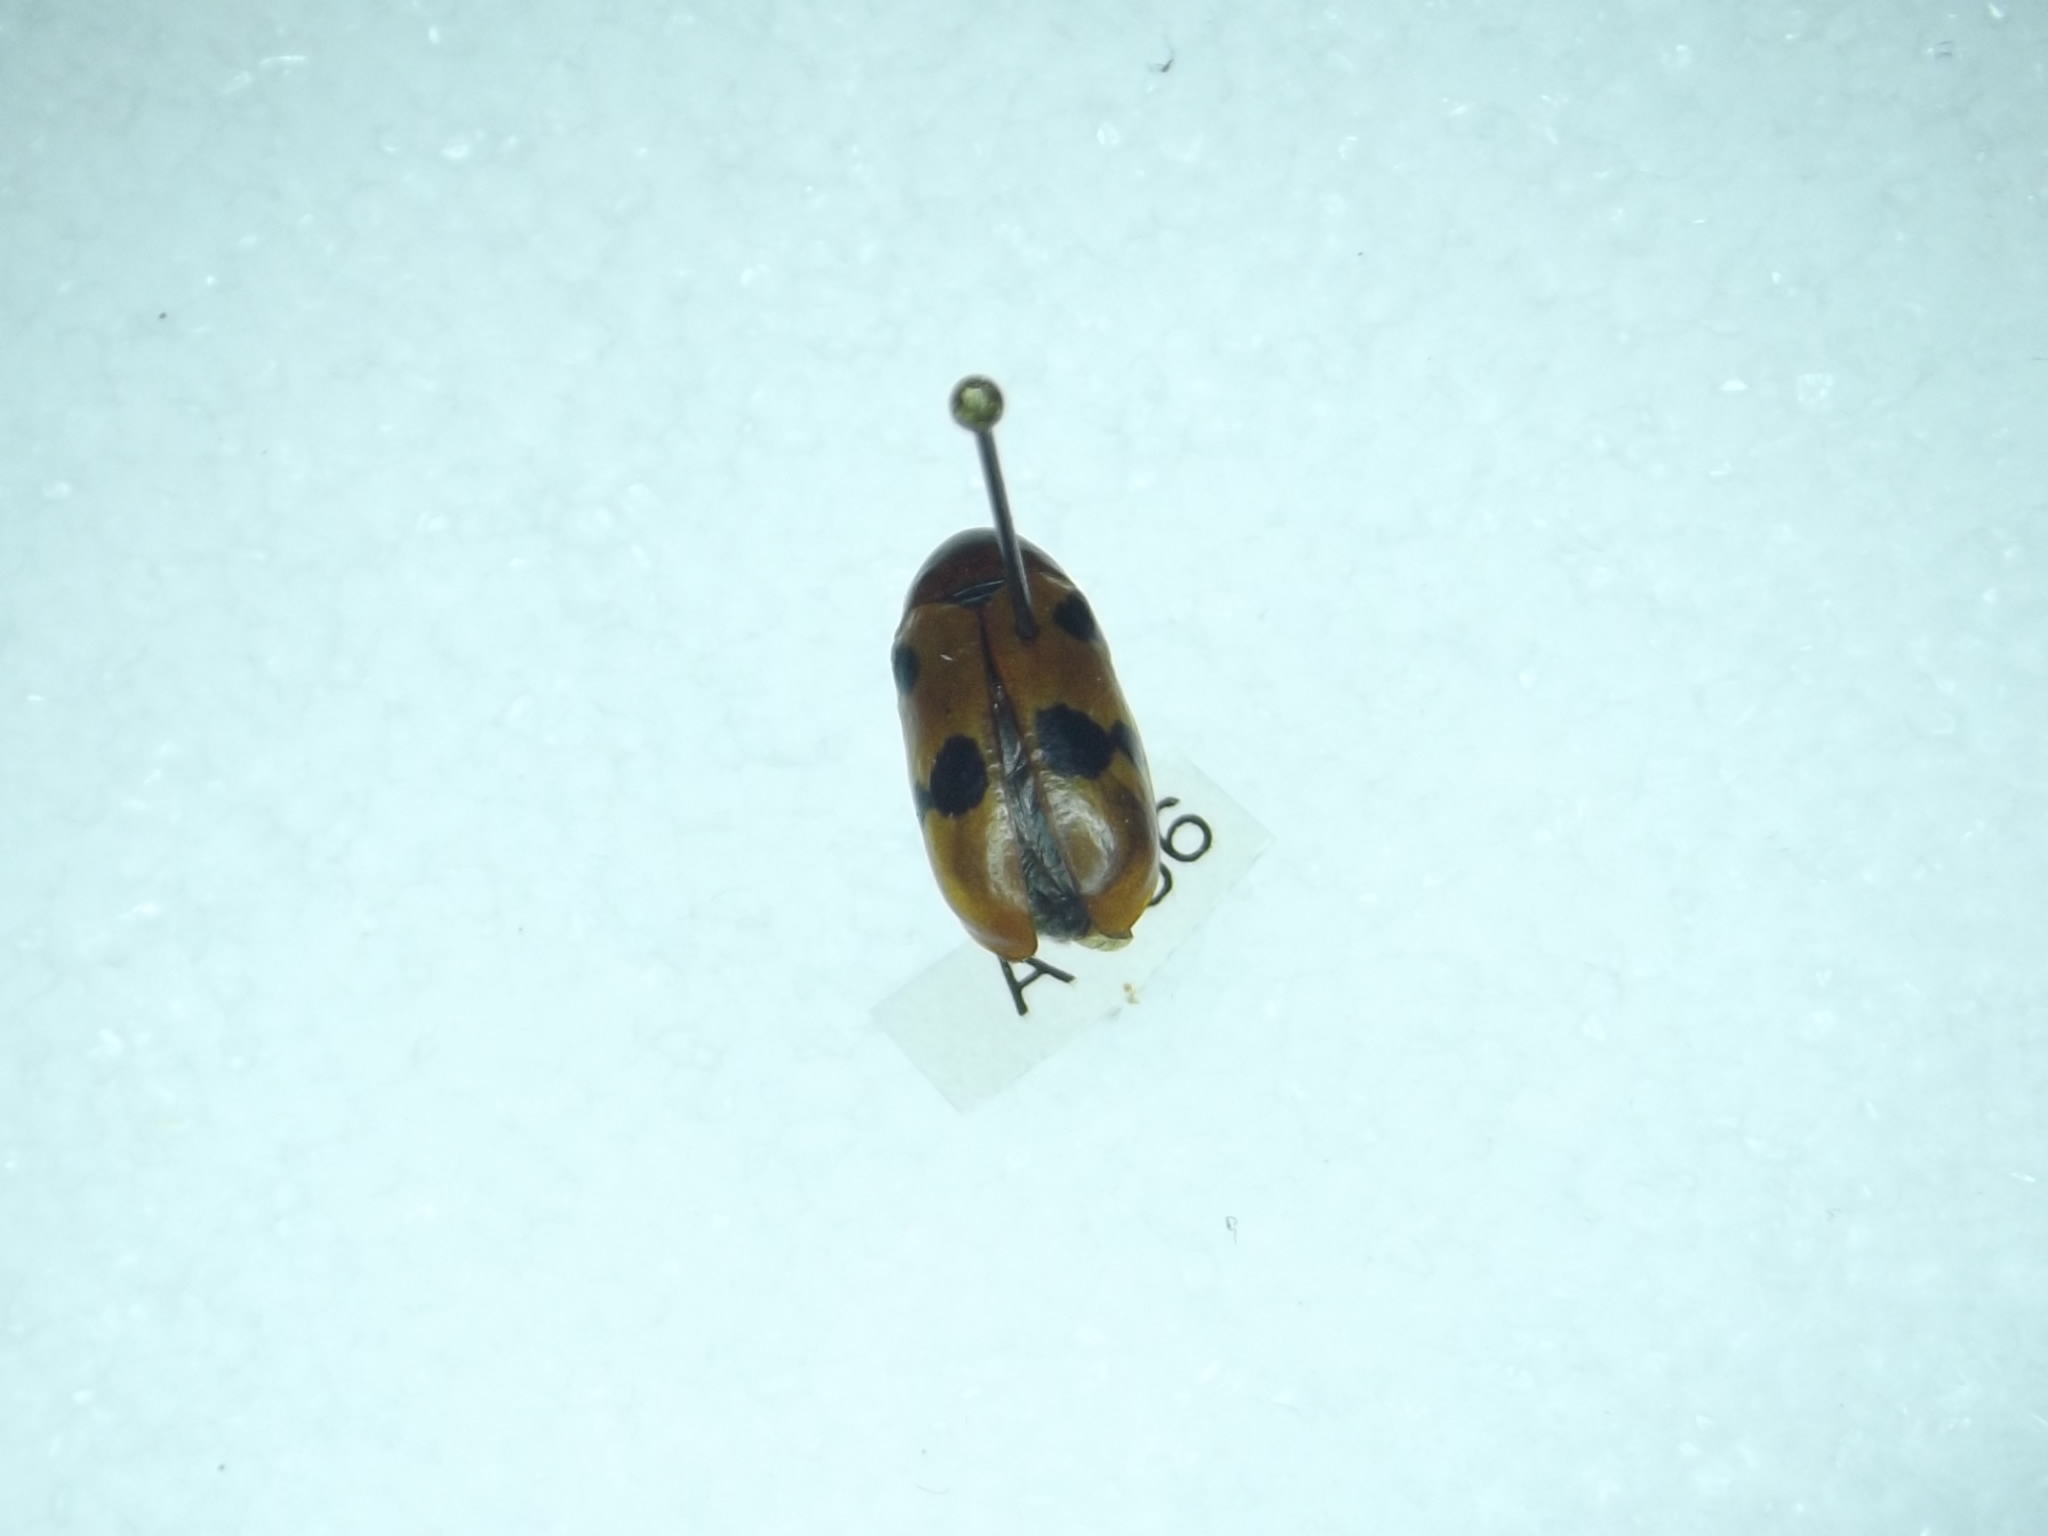Clytra_novempunctata: (879, 502, 1201, 963)
